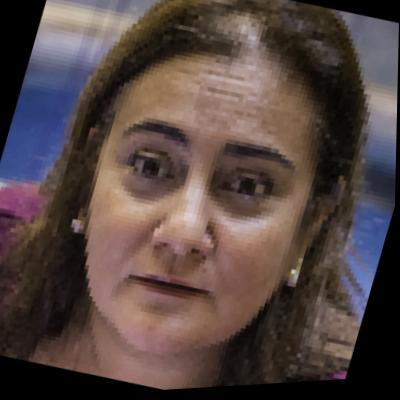surprise: (45, 17, 348, 377)
